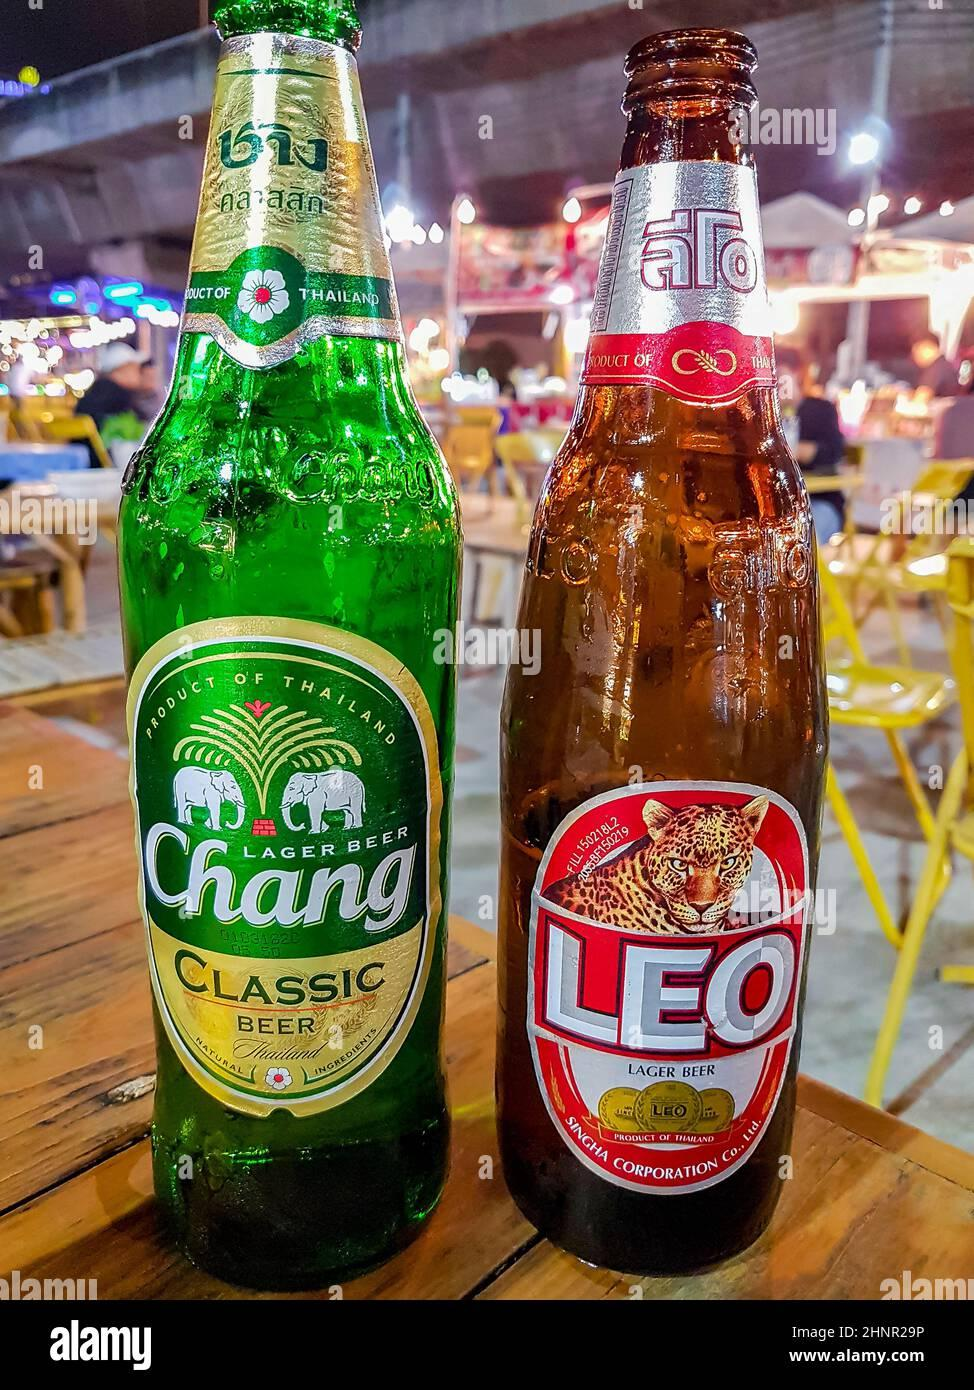glass: (120, 0, 467, 1286), (505, 2, 812, 1284)
